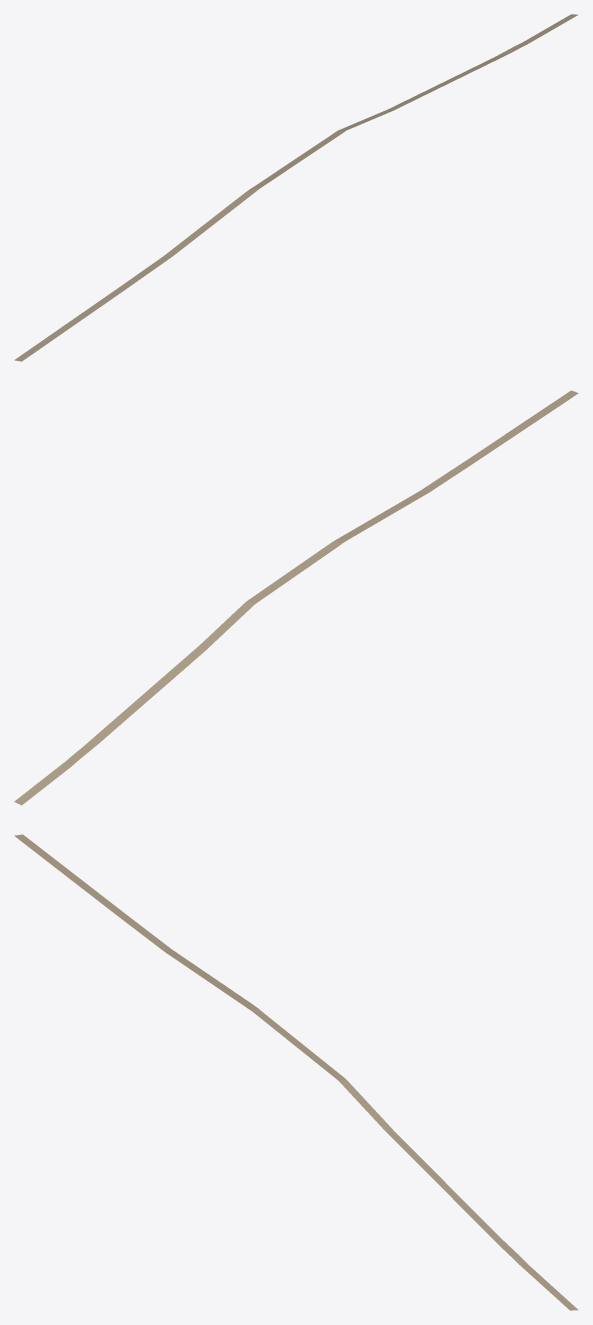
File: farm_-10_5_track.glb
3 renders of one model, top to bottom at view 1: azimuth 30°, elevation 25°; view 2: azimuth 210°, elevation 25°; view 3: azimuth 270°, elevation 25°, orthographic. The views are drawn at different scales.
Visible parts, largest first — view 1: geometry_0; view 2: geometry_0; view 3: geometry_0.
Boxes of the visible parts, x1=… form: geometry_0: x1=14, y1=14, x2=578, y2=361; geometry_0: x1=14, y1=390, x2=578, y2=805; geometry_0: x1=14, y1=834, x2=578, y2=1310.
Bounding box in the file's own units: 335 × 17.71 × 181.
